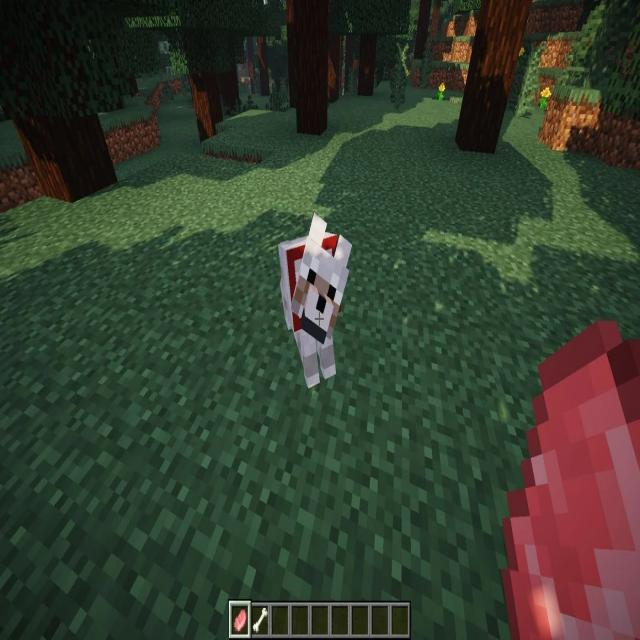Wolf: (276, 211, 354, 388)
